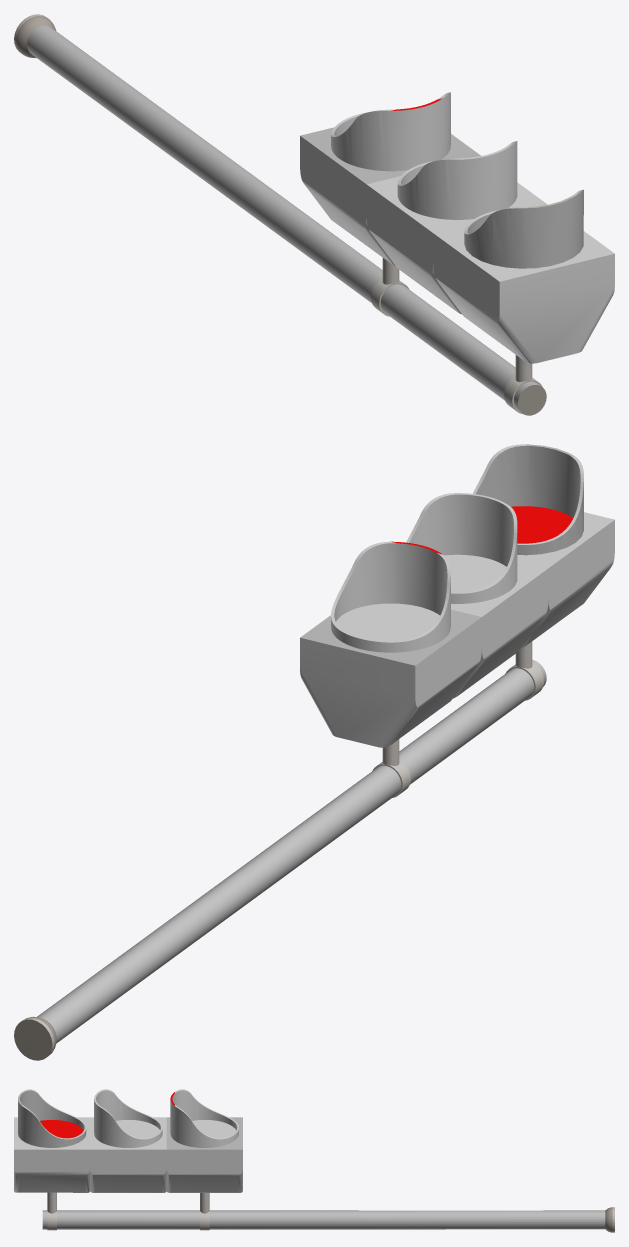
File: svetofor_3.obj
The picture shows the model from 3 angles, top to bottom: view 1: azimuth 30°, elevation 25°; view 2: azimuth 150°, elevation 25°; view 3: azimuth 270°, elevation 25°; orthographic projection. The views are drawn at different scales.
Parts seen in each view (by area): view 1: ________1, ________5, ________2, ________3, ________0, ________4; view 2: ________3, ________5, ________2, ________1; view 3: ________5, ________3, ________2, ________1, ________0, ________4.
Boxes of the visible parts, box(x1,y1,x2,y2) form: ________1: box(433, 189, 614, 363); ________5: box(14, 14, 546, 415); ________2: box(366, 141, 547, 314); ________3: box(300, 92, 480, 265); ________0: box(504, 355, 542, 413); ________4: box(371, 258, 409, 316); ________3: box(300, 541, 481, 747); ________5: box(14, 660, 546, 1060); ________2: box(406, 493, 548, 698); ________1: box(472, 444, 614, 649); ________5: box(42, 1207, 614, 1232); ________3: box(166, 1089, 242, 1192); ________2: box(90, 1089, 166, 1192); ________1: box(14, 1089, 90, 1192); ________0: box(47, 1192, 56, 1230); ________4: box(200, 1193, 209, 1230).
Size of the model in its own units: 0.008 by 0.0153 by 0.063.
